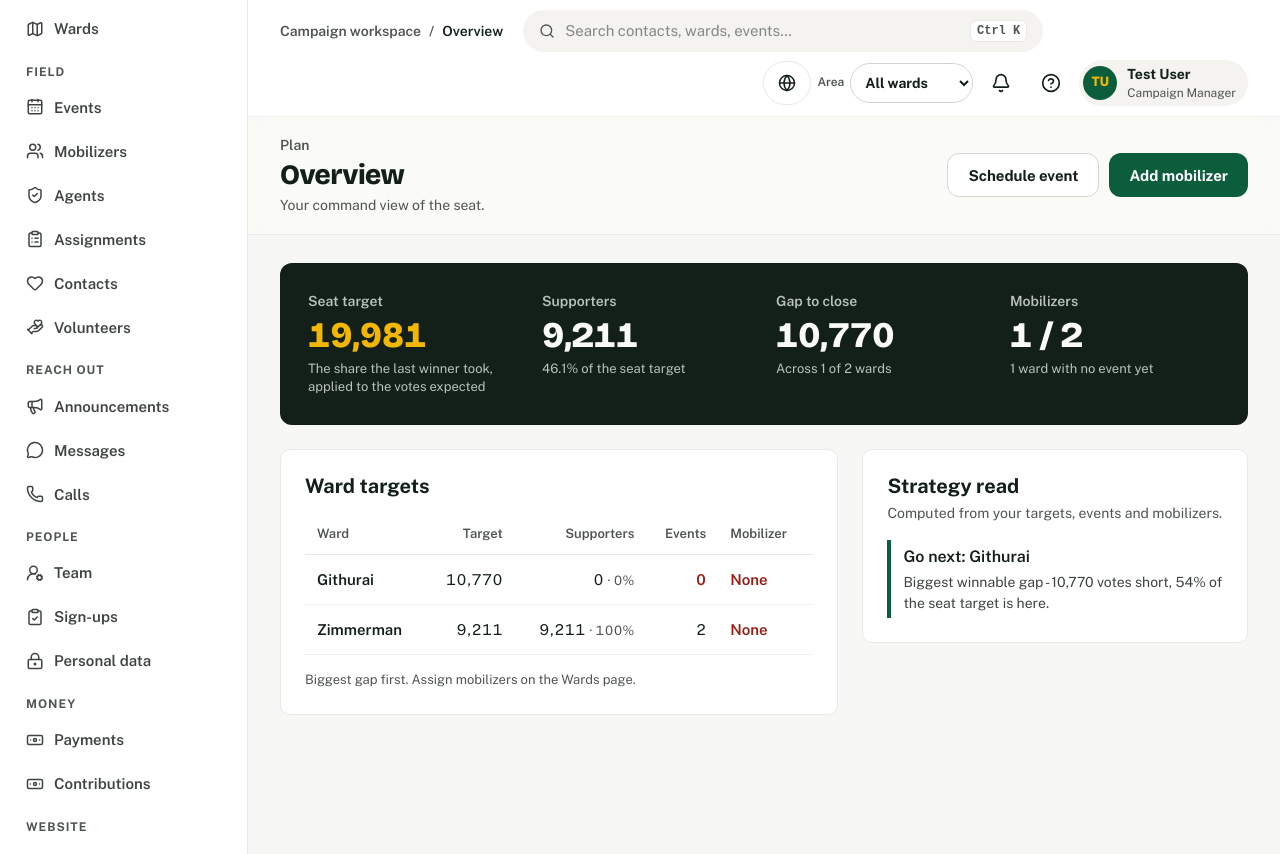
Test case: messages › lets the manager approve a draft or send a new text only after confirming who it reaches and the cost
(page scrolled)
Step 1. Click the link "Messages" → (76, 450), box [26,441,125,459]
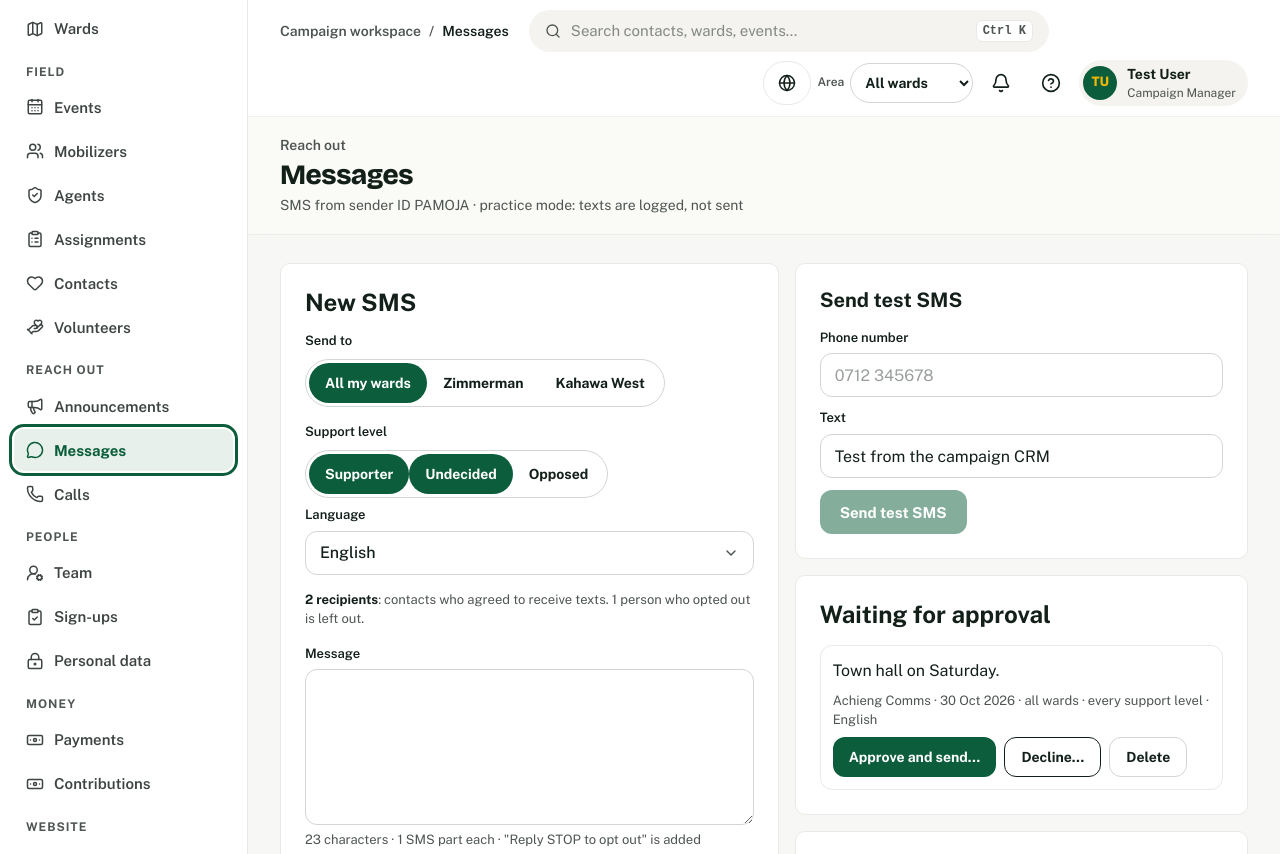
Step 2. Click the button "Approve and send…" → (915, 757), box [833,737,996,777]
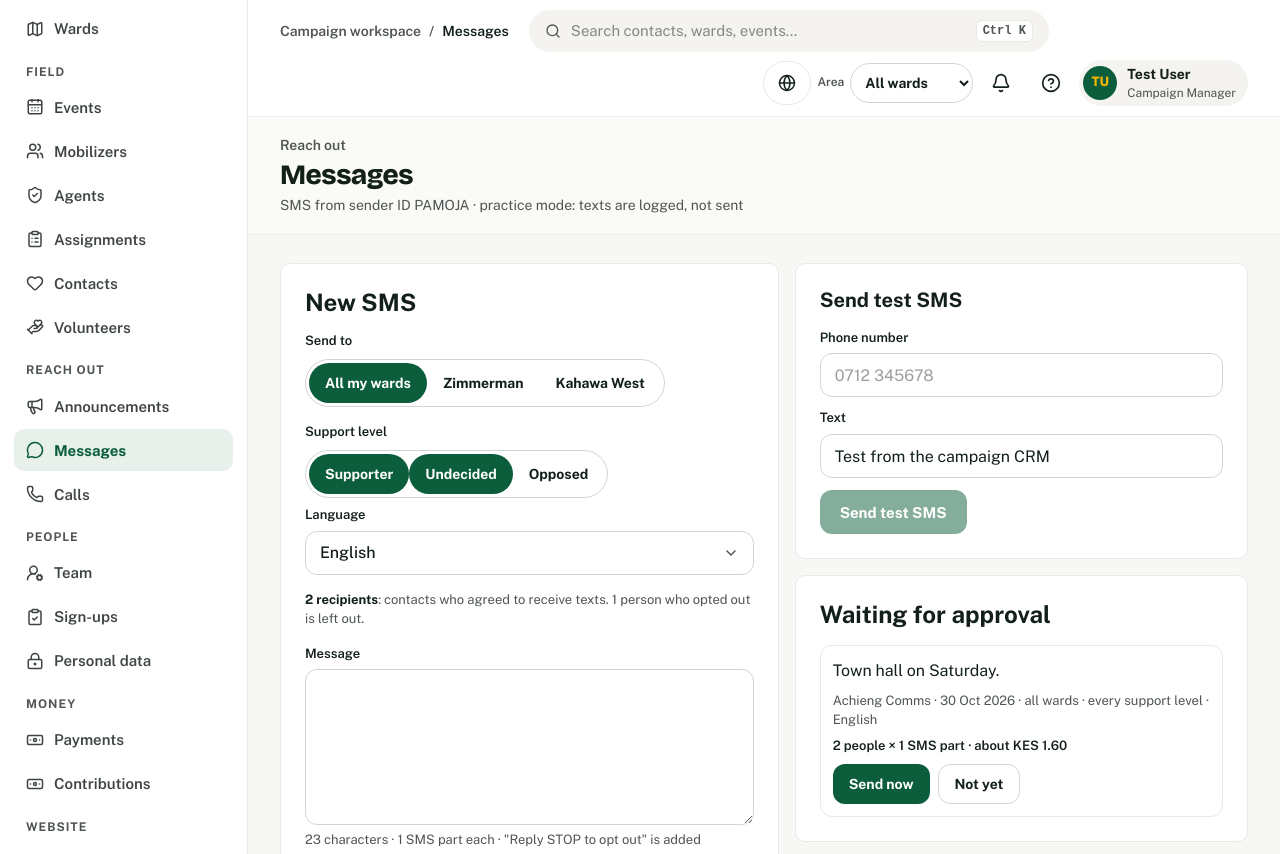
expect the text "2 people × 1 SMS part · about KES 1.60" is shown: met, box [833,738,1067,753]
Step 3. Click the button "Send now" → (881, 784), box [833,764,930,804]
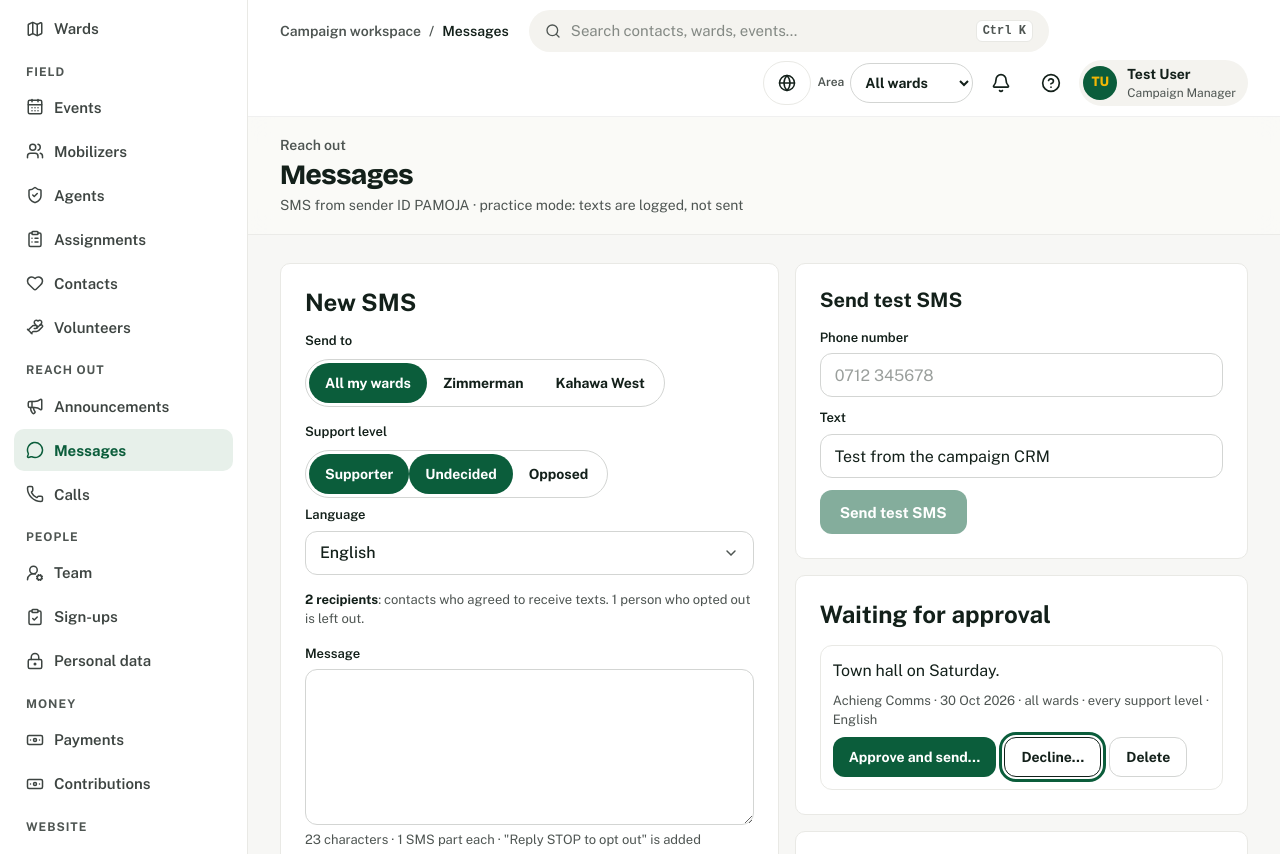
Step 4. Type "Polls open at 6." into the text box labelled "Message" → (529, 748), box [305,670,754,826]
(page scrolled)
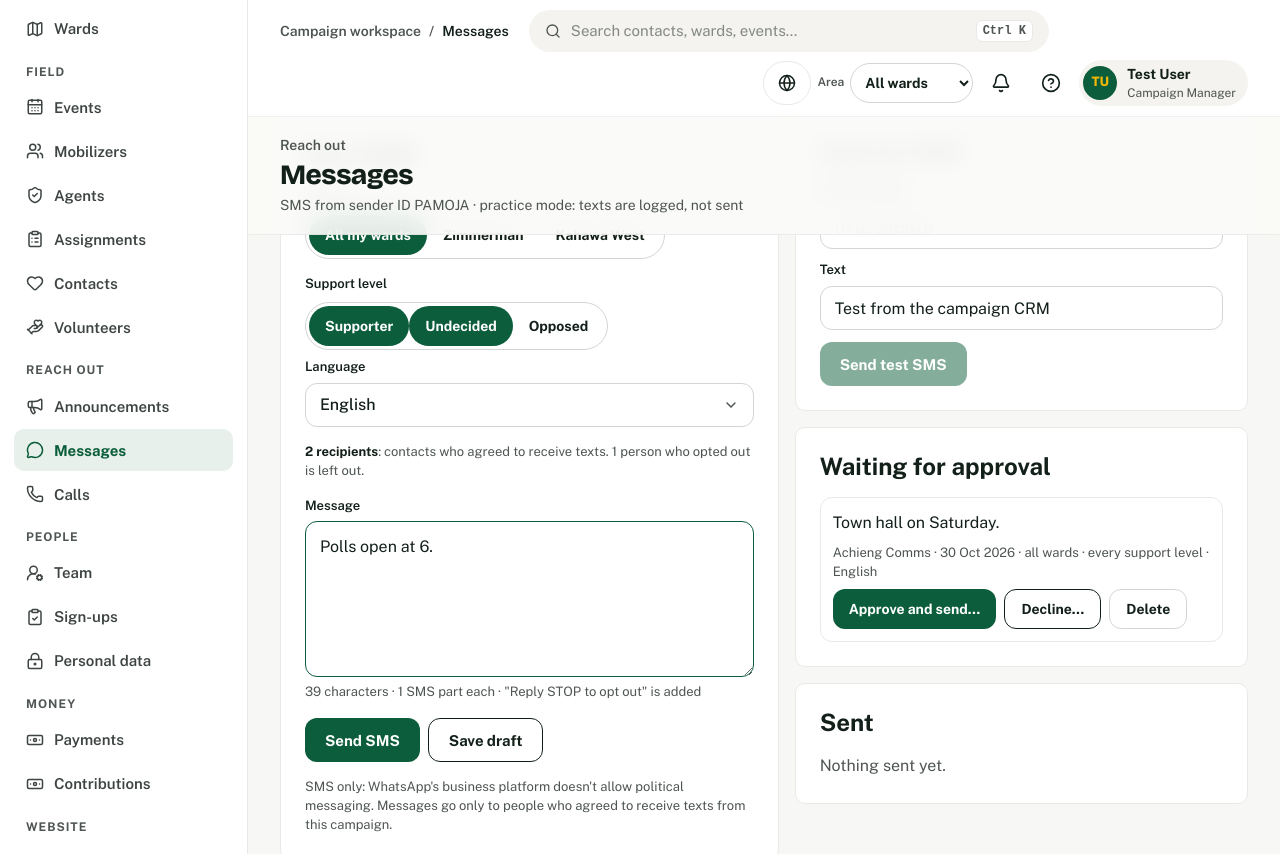
Step 5. Click the button "Send SMS" → (362, 740), box [305,718,420,762]
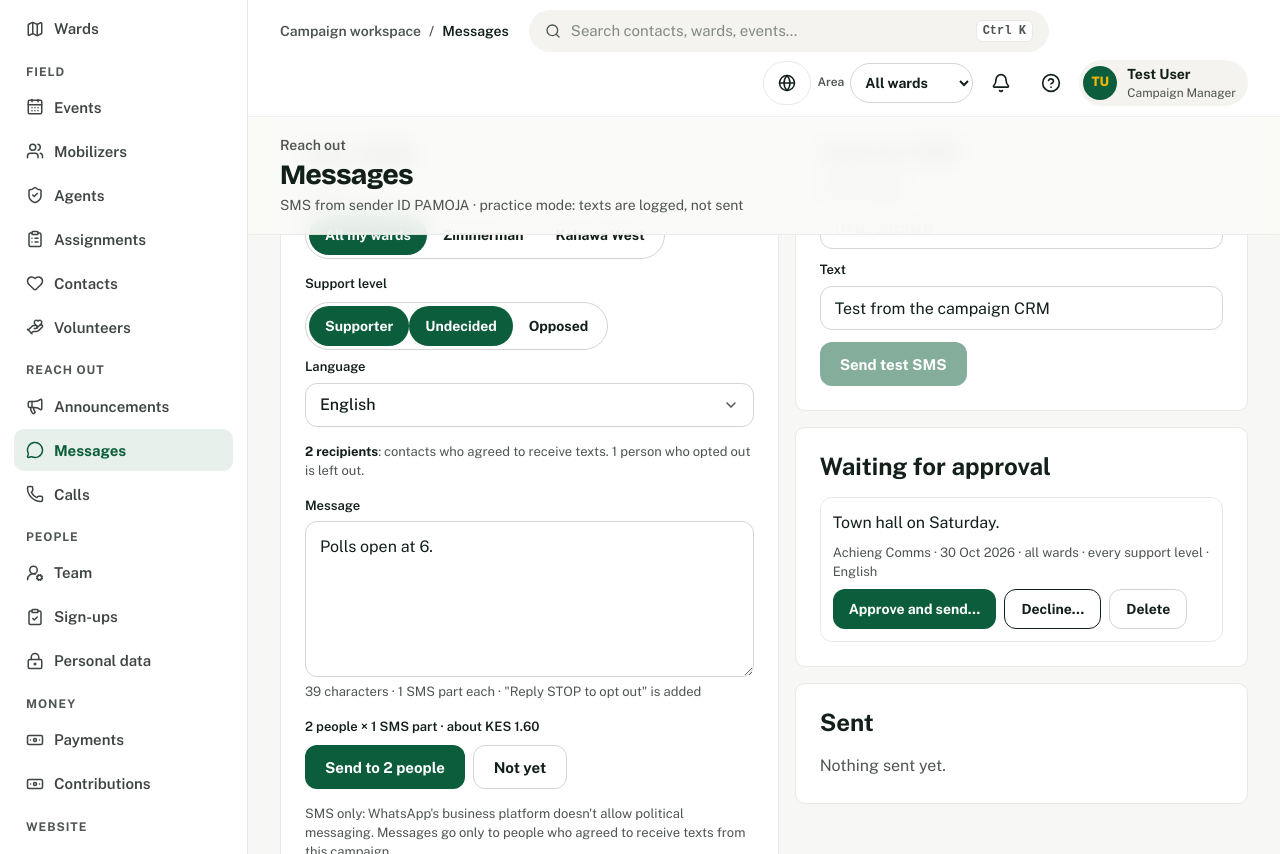
expect the text "2 people × 1 SMS part · about KES 1.60" is shown: met, box [305,719,540,734]
Step 6. Click the button "Send to 2 people" → (385, 767), box [305,745,465,789]
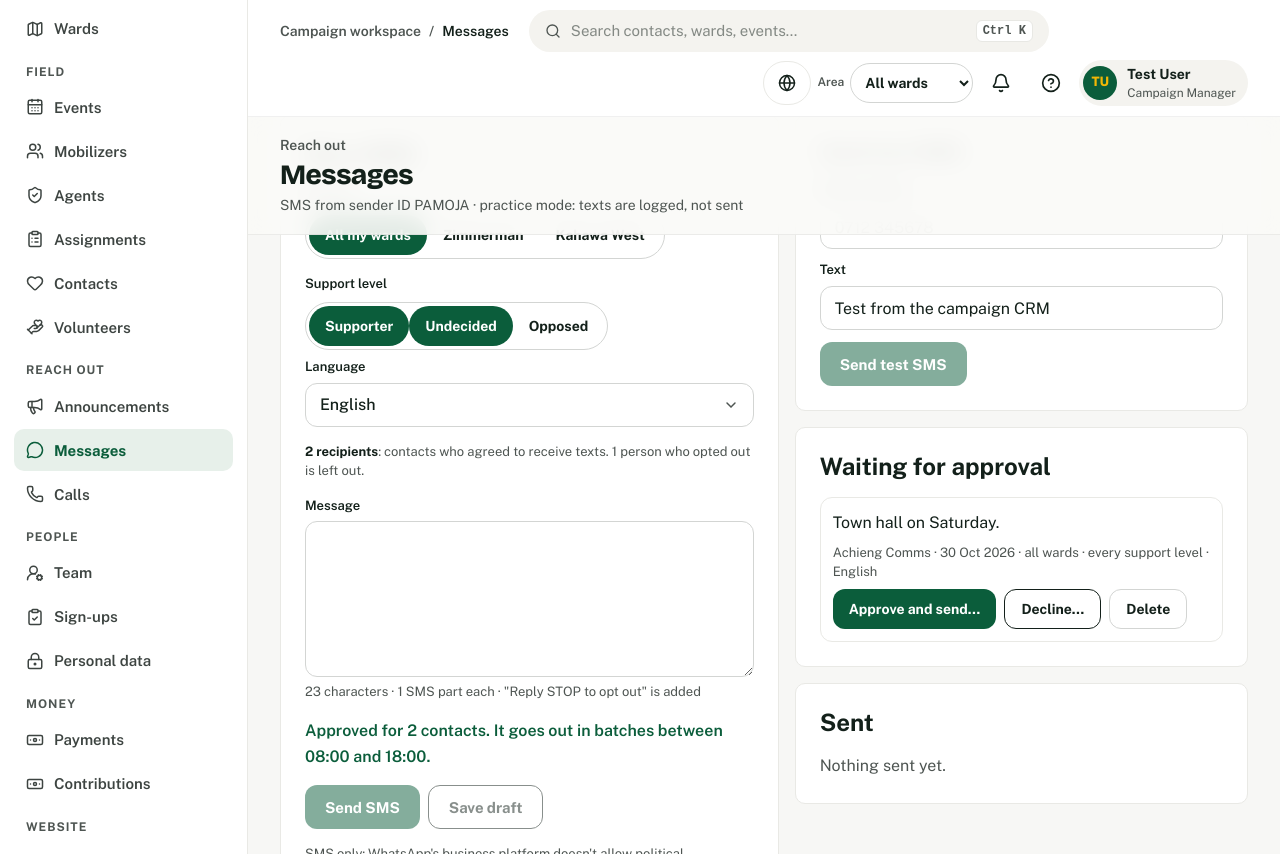
expect the text "Approved for 2 contacts. It goes out in batches between 08:00 and 18:00." is shown: met, box [305,718,754,770]
